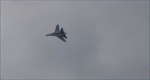maybay_muctieu: (47, 26, 69, 42)
